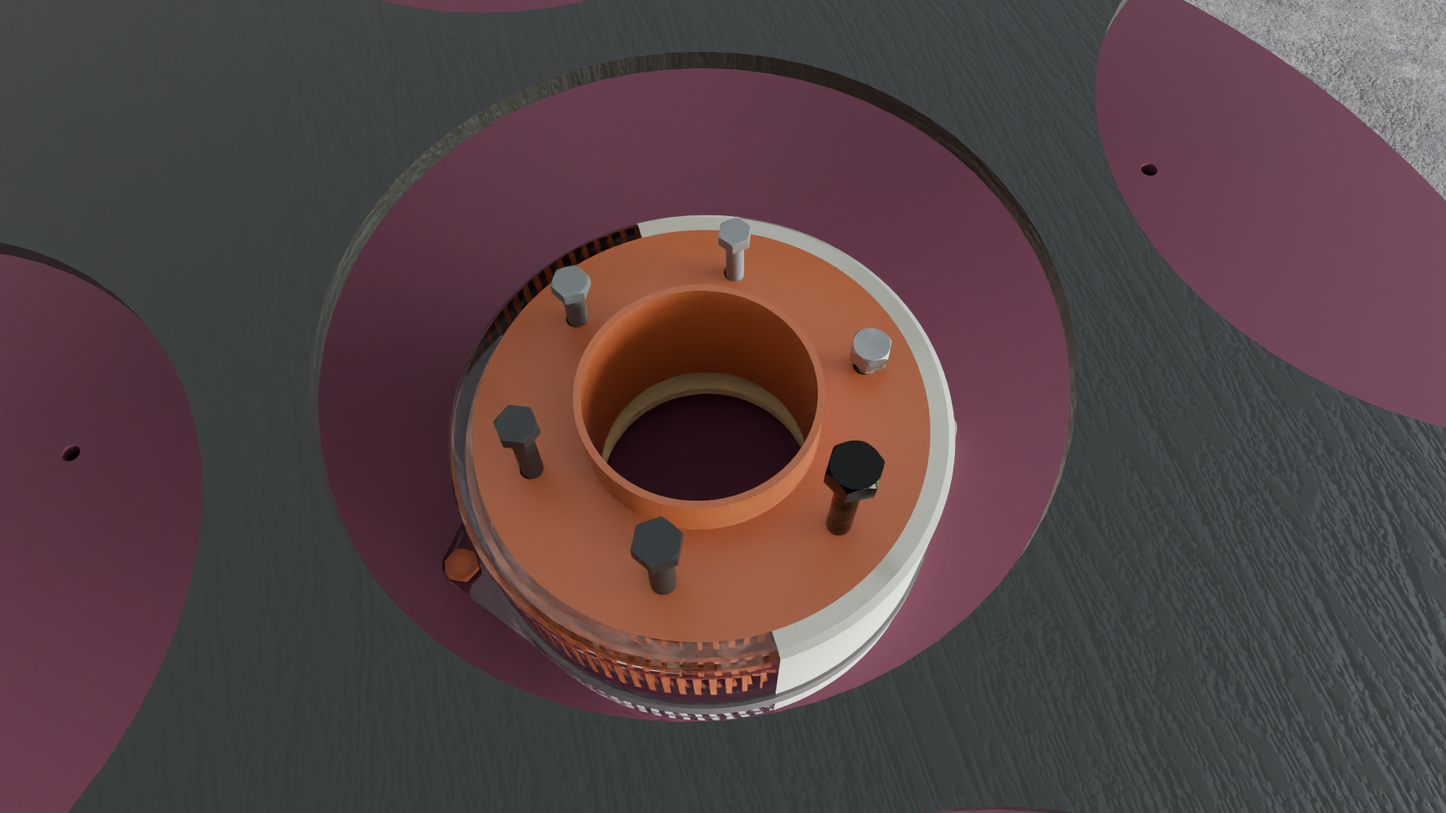bolt: (825, 440, 885, 495), (630, 516, 683, 568), (493, 405, 538, 443), (851, 328, 892, 364), (551, 265, 590, 297), (718, 218, 751, 247)
